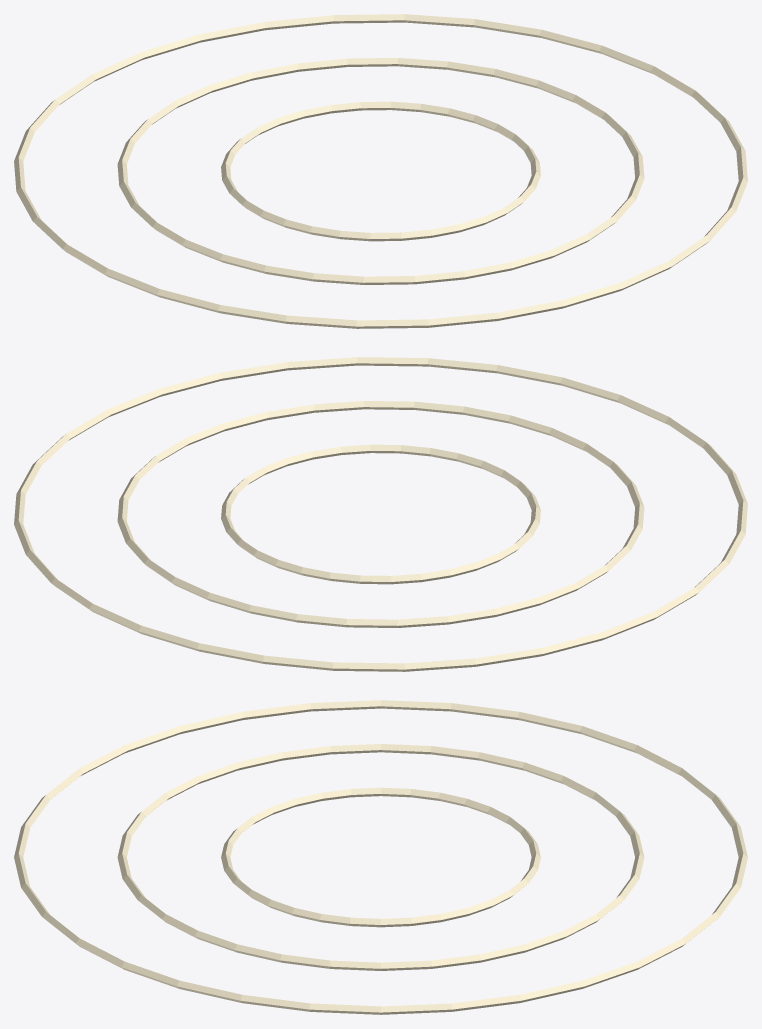
The model's file is bobber_ripples.glb.
3 renders of one model, top to bottom at view 1: azimuth 30°, elevation 25°; view 2: azimuth 150°, elevation 25°; view 3: azimuth 270°, elevation 25°, orthographic.
Parts seen in each view (by area): view 1: bobber_ripples; view 2: bobber_ripples; view 3: bobber_ripples.
Part boxes in pixels (x1,y1,x2,y2): bobber_ripples: (14, 14, 747, 328); bobber_ripples: (14, 357, 747, 671); bobber_ripples: (14, 700, 747, 1014).
Bounding box in the file's own units: 1.42 × 0.018 × 1.42.
